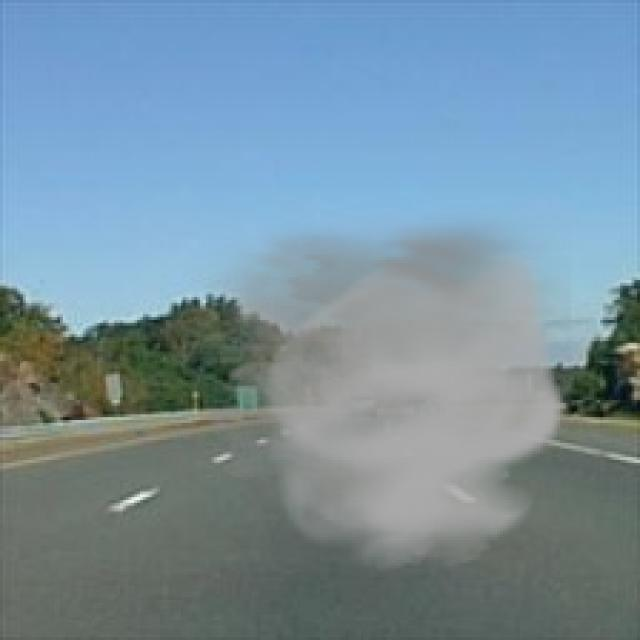smoke: (154, 206, 572, 571)
